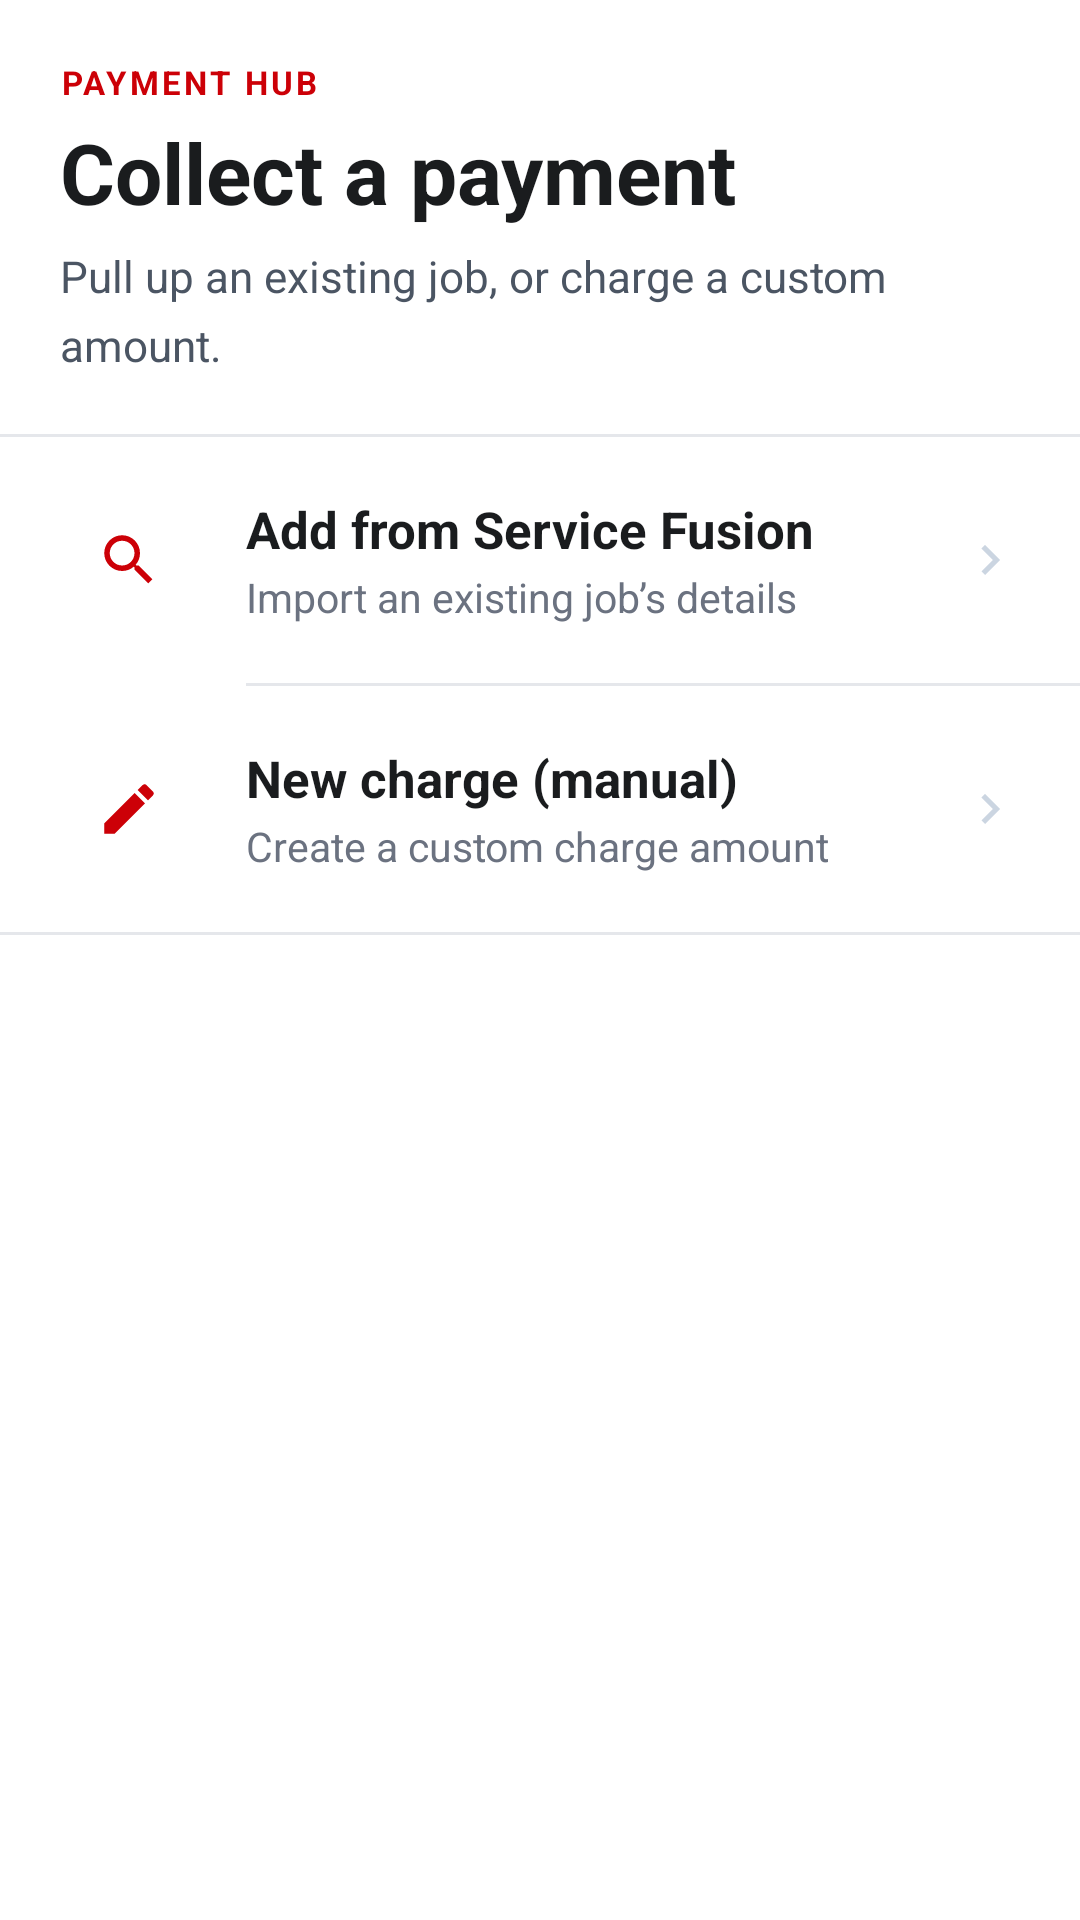

Point at icon controls on the screen. Image size 1080x1920, points as [x,y].
job chevron: [991,560], [991,809]
pay edit: [129,809]
pay search: [128,559]
